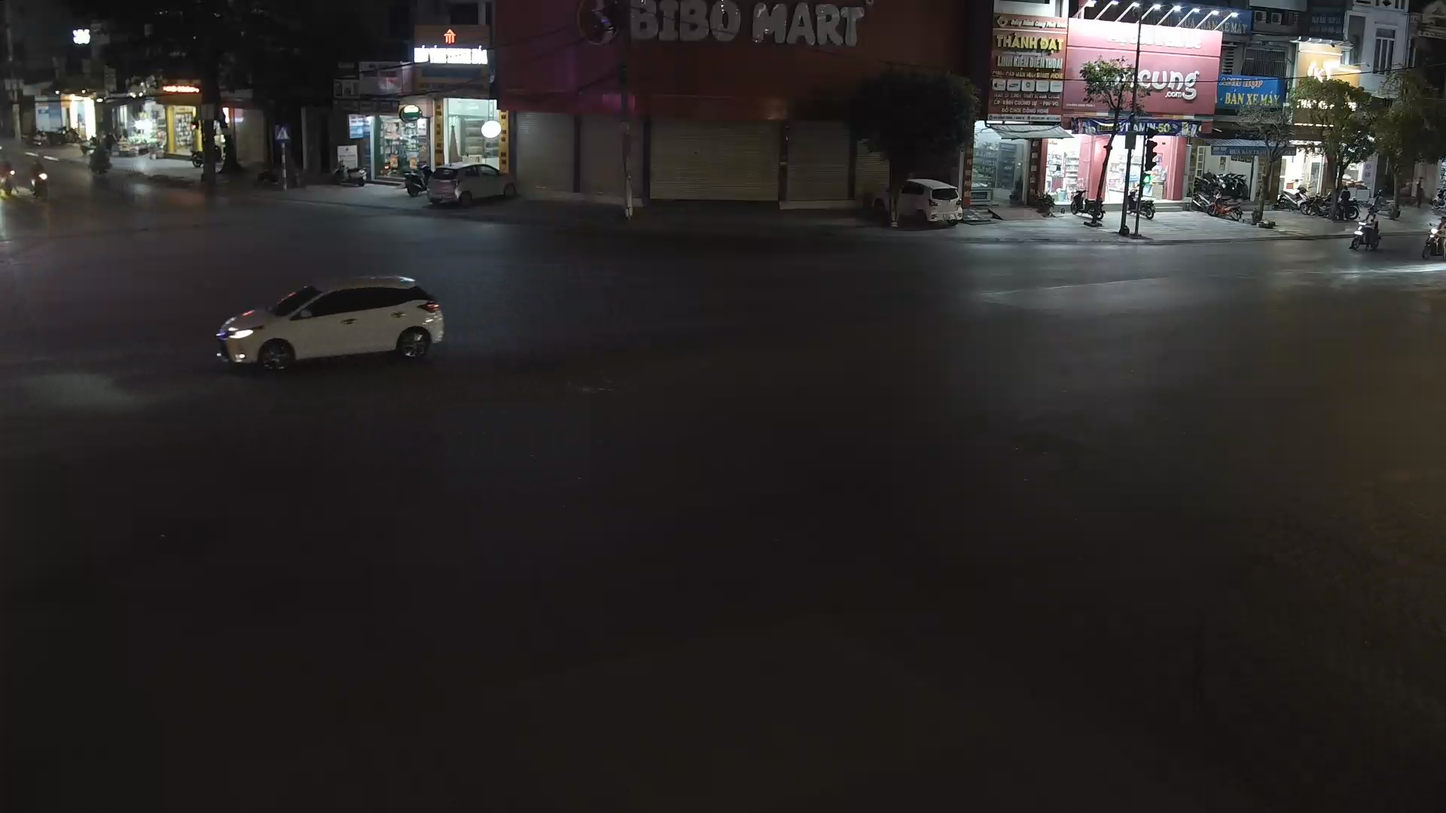car: (212, 272, 445, 374)
